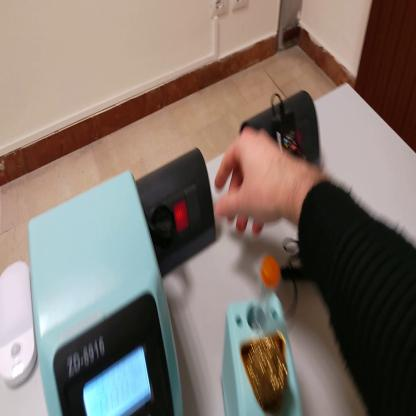hand: (214, 127, 292, 237)
socket: (137, 150, 220, 282), (240, 89, 322, 168)
welder base: (220, 256, 304, 412)
welder station: (28, 168, 185, 414)
